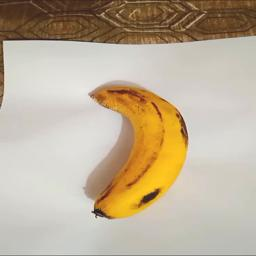Banana Unripe: (86, 80, 193, 221)
